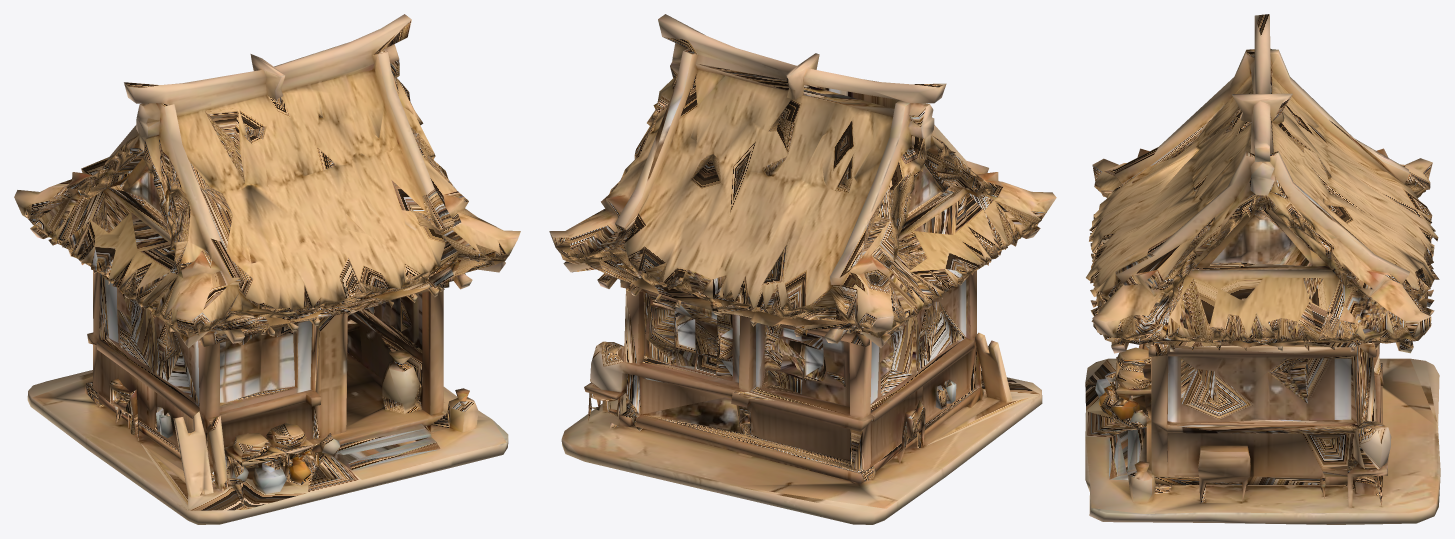
Rendered from A_3D_image_a_a_tradit.glb.
The picture shows the model from 3 angles, left to right: view 1: azimuth 30°, elevation 25°; view 2: azimuth 150°, elevation 25°; view 3: azimuth 270°, elevation 25°; orthographic projection. The views are drawn at different scales.
Visible parts, largest first — view 1: A_3D_image_a_a_tradit; view 2: A_3D_image_a_a_tradit; view 3: A_3D_image_a_a_tradit.
Boxes of the visible parts, left/top/right/bottom form: A_3D_image_a_a_tradit: left=14, top=14, right=520, bottom=524; A_3D_image_a_a_tradit: left=549, top=14, right=1056, bottom=524; A_3D_image_a_a_tradit: left=1085, top=14, right=1440, bottom=524.
Size of the model in its own units: 1.82 by 1.9 by 1.67.
Materials: 1 (1 with a texture image).
